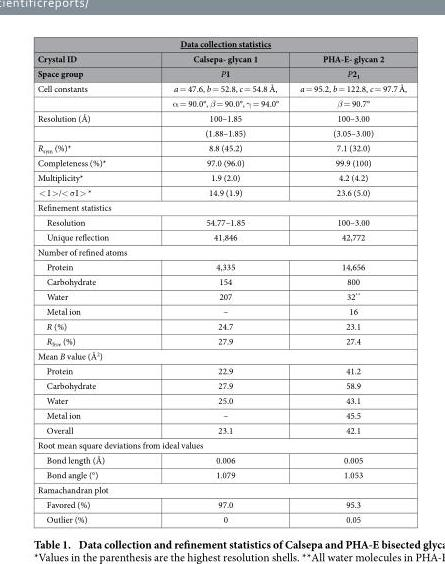table: (36, 37, 406, 525)
table column: (139, 37, 288, 525), (288, 37, 406, 525), (36, 37, 139, 525)
table column header: (36, 37, 406, 80)
table projected row header: (36, 199, 406, 214), (36, 437, 406, 452), (36, 481, 406, 496), (36, 244, 406, 258), (36, 348, 406, 362)
table row: (36, 50, 406, 65), (36, 65, 406, 80), (36, 80, 406, 95), (36, 95, 406, 110), (36, 110, 406, 125), (36, 125, 406, 140), (36, 140, 406, 155), (36, 169, 406, 184), (36, 184, 406, 199), (36, 199, 406, 214), (36, 214, 406, 229), (36, 229, 406, 244), (36, 258, 406, 273), (36, 273, 406, 288), (36, 288, 406, 303), (36, 303, 406, 318), (36, 318, 406, 333), (36, 333, 406, 348), (36, 362, 406, 377), (36, 377, 406, 392), (36, 392, 406, 407), (36, 407, 406, 422), (36, 422, 406, 437), (36, 437, 406, 452), (36, 452, 406, 467), (36, 481, 406, 496), (36, 496, 406, 511), (36, 155, 406, 169), (36, 244, 406, 258), (36, 348, 406, 362), (36, 467, 406, 481), (36, 511, 406, 525), (36, 37, 406, 50)
table spanning cell: (36, 37, 406, 50), (139, 50, 288, 80), (288, 50, 406, 80), (36, 50, 139, 80), (36, 80, 139, 110), (36, 110, 139, 140)
